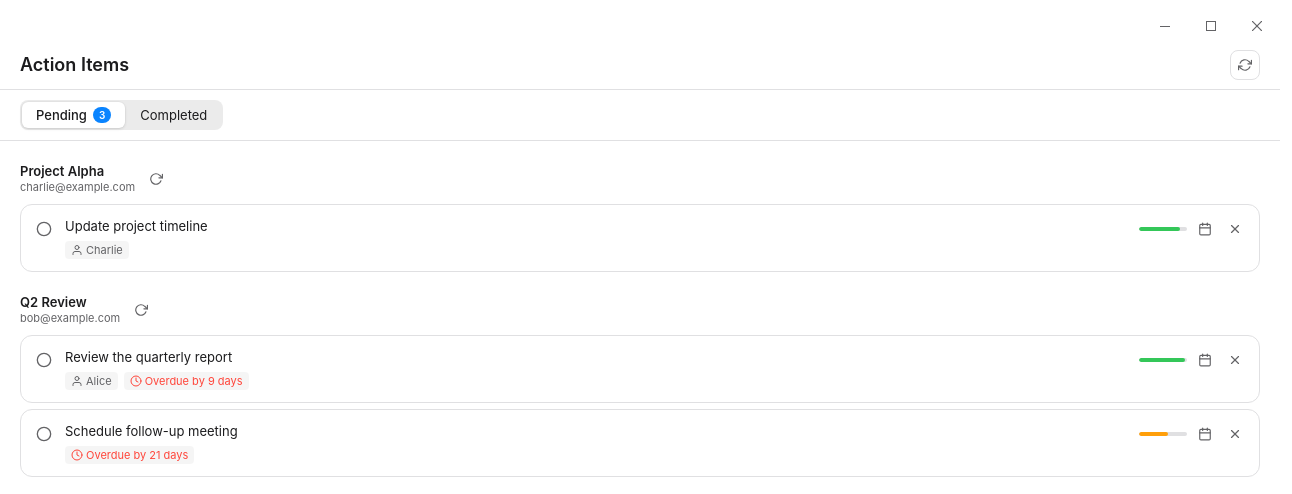
Scenario: ActionsView.svelte › switches to completed tab
The width and height of the screenshot is (1292, 494).
Expected: the text "Review the quarterly report" is shown, [65,349,232,365]
Click the button "Completed" at x=174, y=115, box [126,102,221,128]
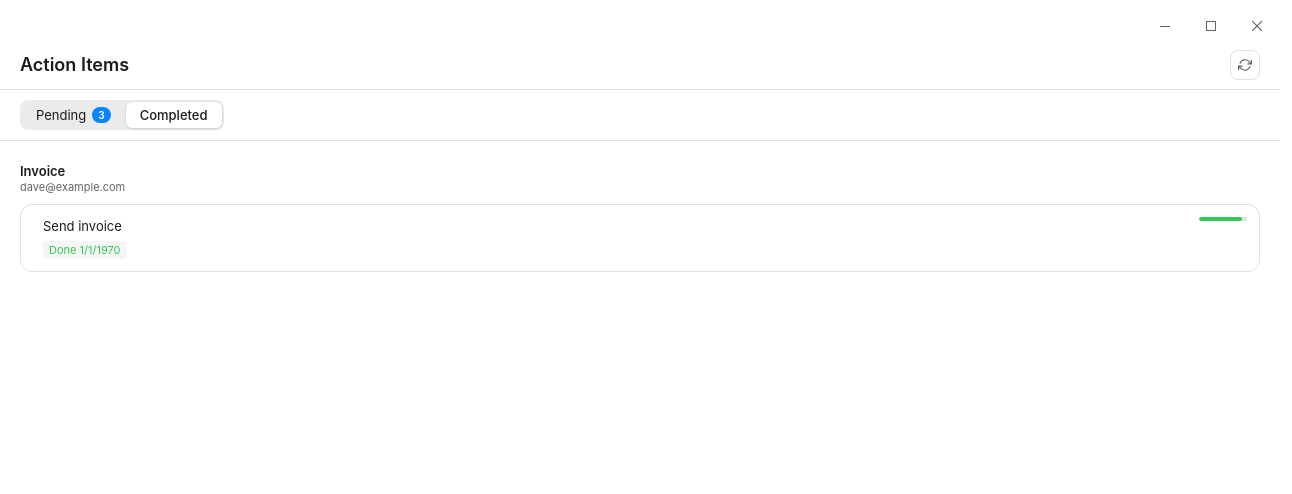
Expected: the text "Send invoice" is shown, [43,218,122,234]
